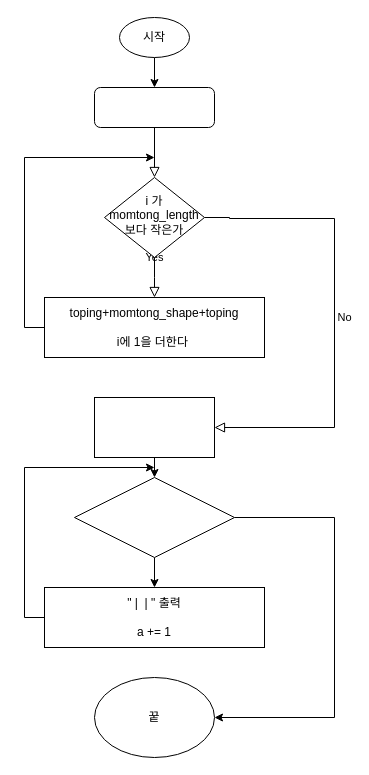
This 369x775 diagram has some shape labels left out. The shapes that lost their labels are listed below. From the top down, each one's centre as x and y in pixels, then its label:
At (x=154, y=107): "i = 1".
At (x=154, y=427): "a = 1".
At (x=154, y=517): "a 가 bar_length보다 작은가".
